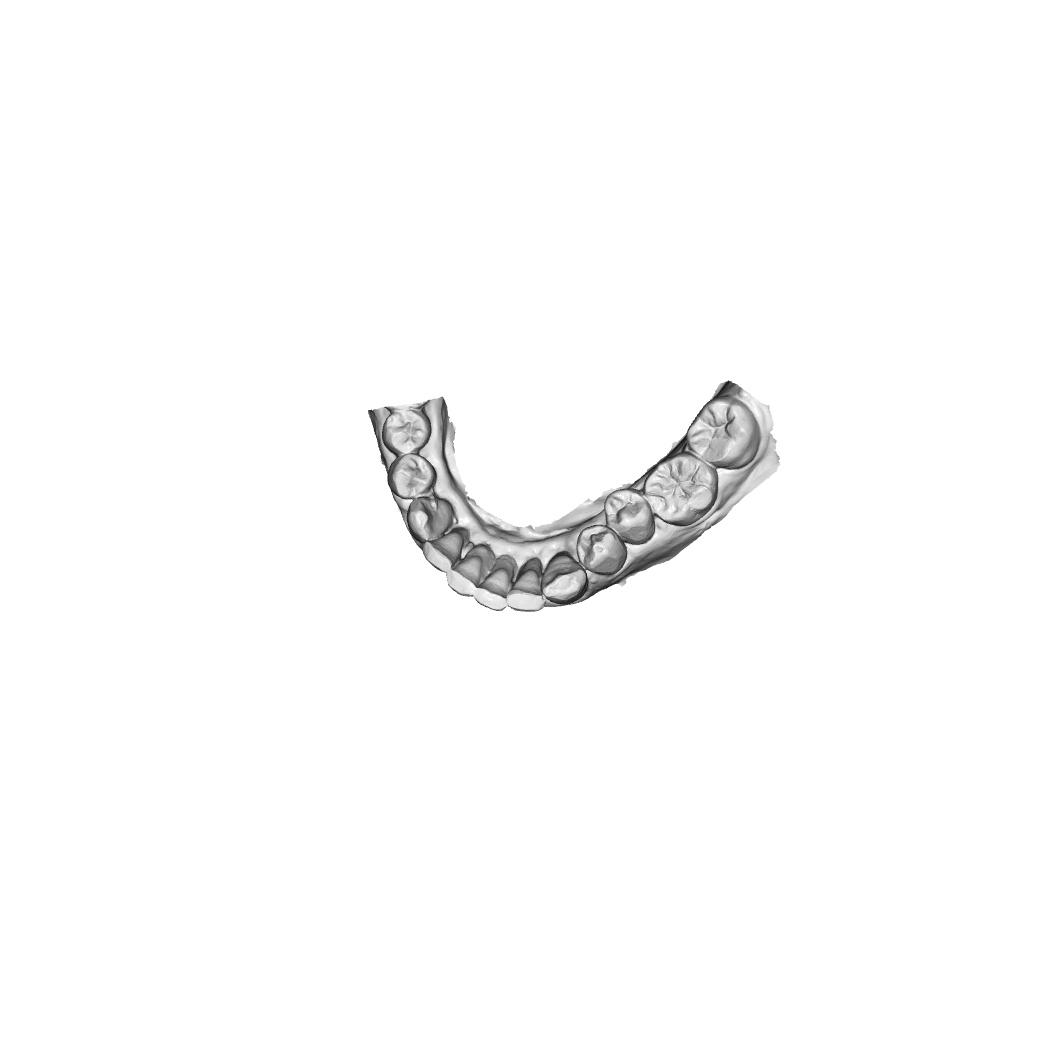canine: (541, 550, 589, 605), (406, 496, 454, 543)
incisor: (422, 527, 471, 573), (505, 563, 545, 614), (445, 551, 487, 598), (474, 567, 511, 612)
molar: (643, 451, 720, 527), (685, 395, 762, 470)
premolar: (603, 488, 656, 545), (576, 524, 628, 576), (381, 408, 433, 456), (387, 453, 438, 500)
